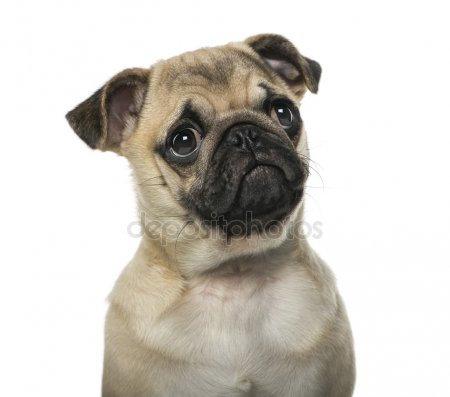dog: (70, 34, 361, 396)
